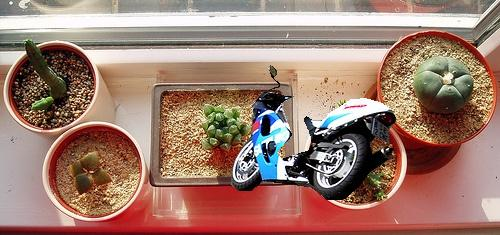tampered: (232, 66, 396, 200)
